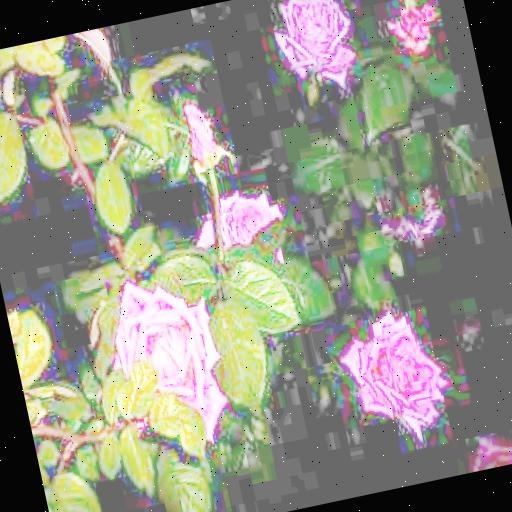rose: (90, 264, 234, 458), (336, 306, 455, 443), (268, 0, 359, 94)
